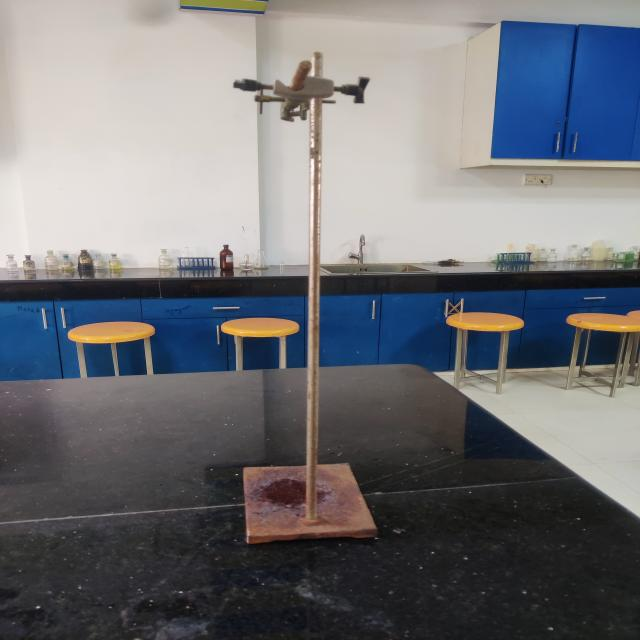Burette_Stands: (180, 24, 433, 584)
